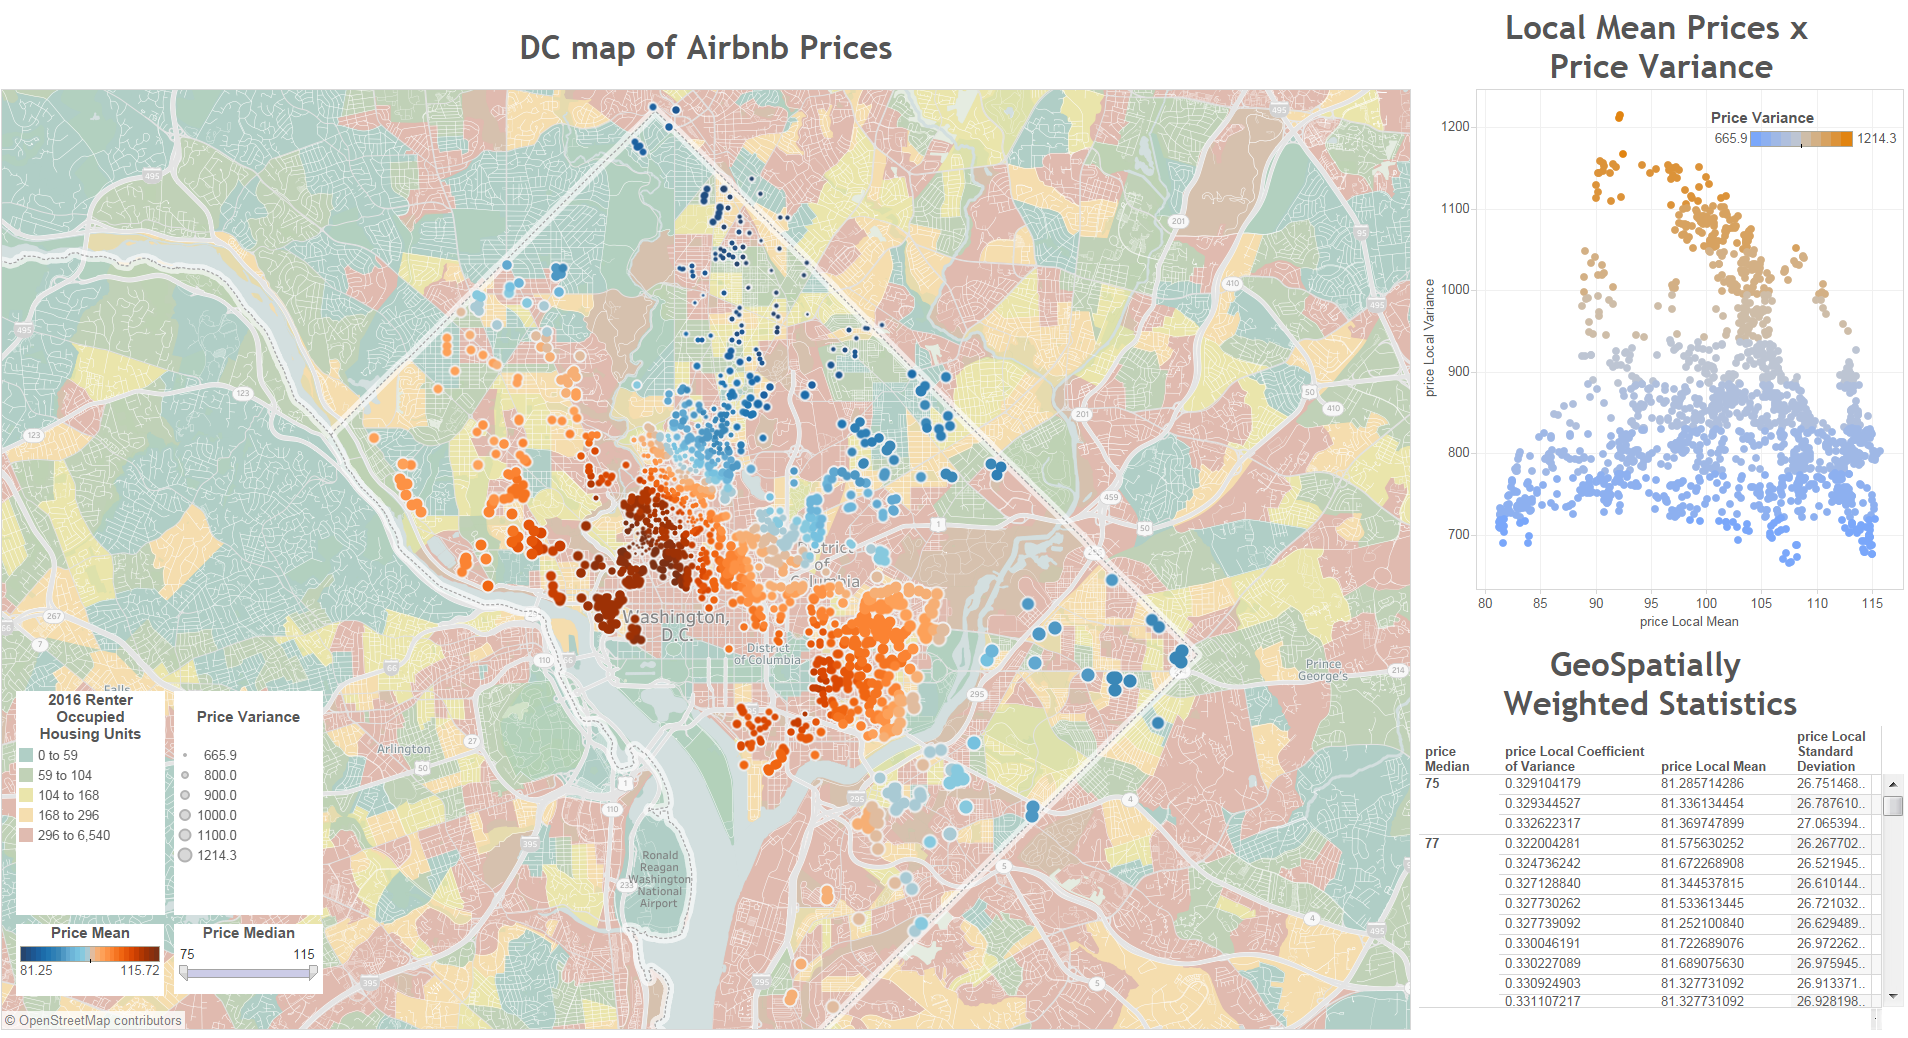

The dashboard page shown, as its layout file describes it:
{"tool":"tableau","page":{"name":"Airbnb DC Prices: BirdEye View","canvas":[1000,1000],"units":"permille","ordinal":0},"visuals":[{"type":"worksheet","title":"DC","mark":"Automatic","rows":["Latitude"],"cols":["Longitude"],"box":[0,0,685.1,1000]},{"type":"worksheet","title":"Mean & Median","mark":"Automatic","rows":["price_LVar"],"cols":["price_LM"],"box":[685.1,0,312.4,534.2]},{"type":"legend","title":"Mean & Median","param":"[textscan.0c79y4d1hquwf01der3vs07s057w].[none:price_LVar:qk]","box":[895.4,108,98.9,87.1]},{"type":"worksheet","title":"Raw","mark":"Automatic","rows":["price_Median","price_LCV","price_LM","price_LSD"],"box":[685.1,534.2,312.4,461.1]},{"type":"legend","title":"DC","box":[12,666.7,77.5,214.8]},{"type":"legend","title":"DC","param":"[textscan.0c79y4d1hquwf01der3vs07s057w].[none:price_LVar:qk]","box":[94.4,666.7,77.3,214.9]},{"type":"legend","title":"DC","param":"[textscan.0c79y4d1hquwf01der3vs07s057w].[none:price_LM:qk]","box":[12,890.8,77.3,68.5]},{"type":"filter","title":"DC","param":"[textscan.0c79y4d1hquwf01der3vs07s057w].[none:price_Median:qk]","box":[94.4,890.8,77.3,67.4]}]}

Visuals, with their boxes on the dashboard's canvas, which has no fixed pixel size, in thousandths of its width and height (x1, y1, x2, y2). These are canvas units, not pixel positions in the 1908x1038 screenshot, which may show the page scaled, cropped or inside an application window:
"DC" worksheet: box(0, 0, 685, 1000)
"Mean & Median" worksheet: box(685, 0, 998, 534)
"Mean & Median" legend: box(895, 108, 994, 195)
"Raw" worksheet: box(685, 534, 998, 995)
"DC" legend: box(12, 667, 90, 882)
"DC" legend: box(94, 667, 172, 882)
"DC" legend: box(12, 891, 89, 959)
"DC" filter: box(94, 891, 172, 958)
